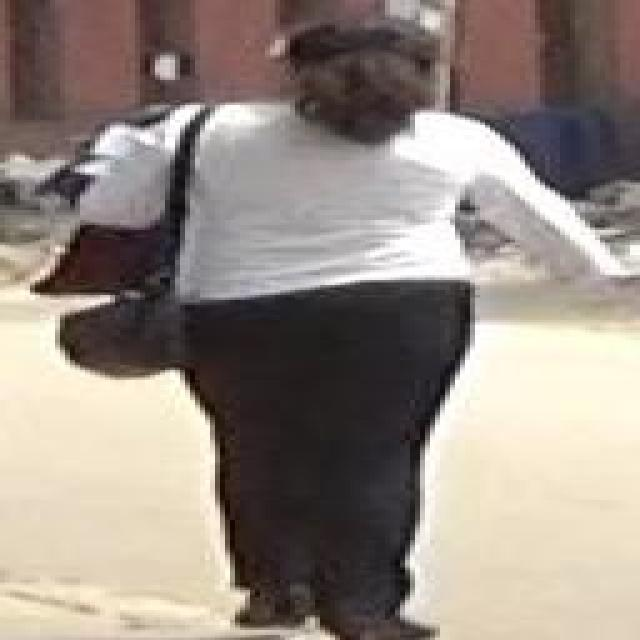adult: (77, 16, 563, 636)
